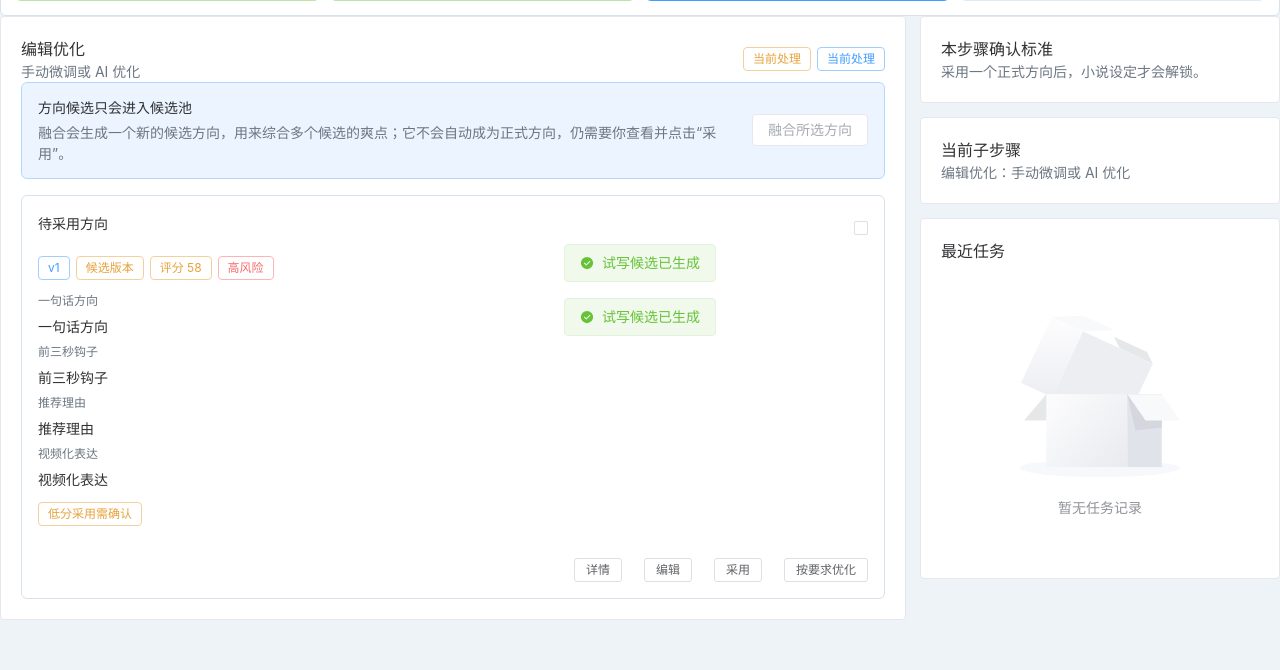
Test case: NovelDetailWorkbench DOM behavior › shows one current direction, historicalizes the previous version, removes non-candidate controls, and enters setting after adopt
(page scrolled)
Click the button "采用".
click(738, 570)  # box [714, 558, 762, 582]
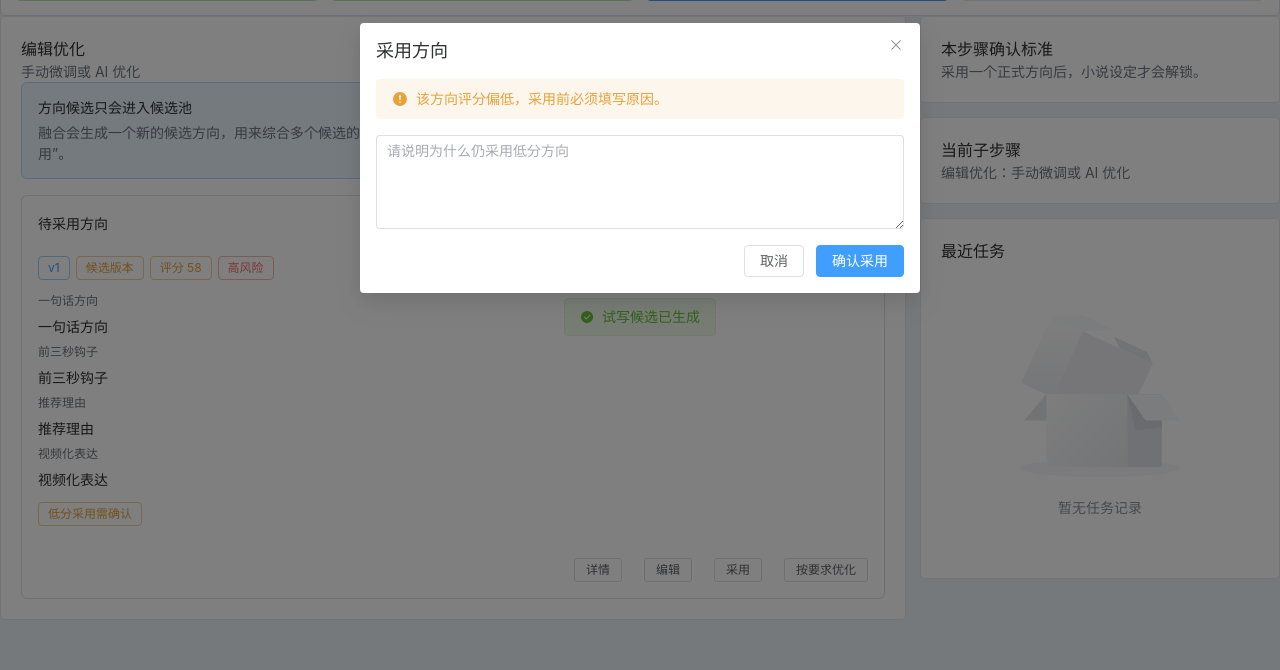
Type "采用该方向作为后续设定输入。" into the text box with placeholder "请说明为什么仍采用低分方向".
click(640, 182); type("采用该方向作为后续设定输入。")  # box [376, 135, 904, 229]
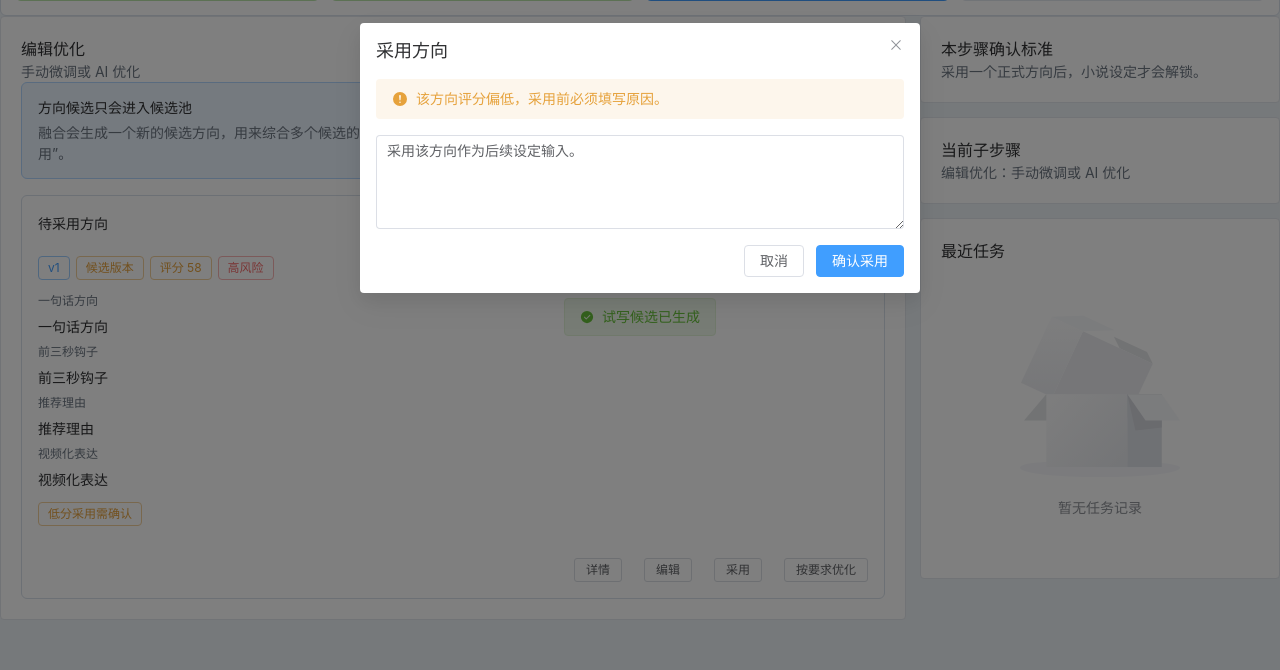
Click the button "确认采用".
click(860, 261)  # box [816, 245, 904, 277]
(page scrolled)
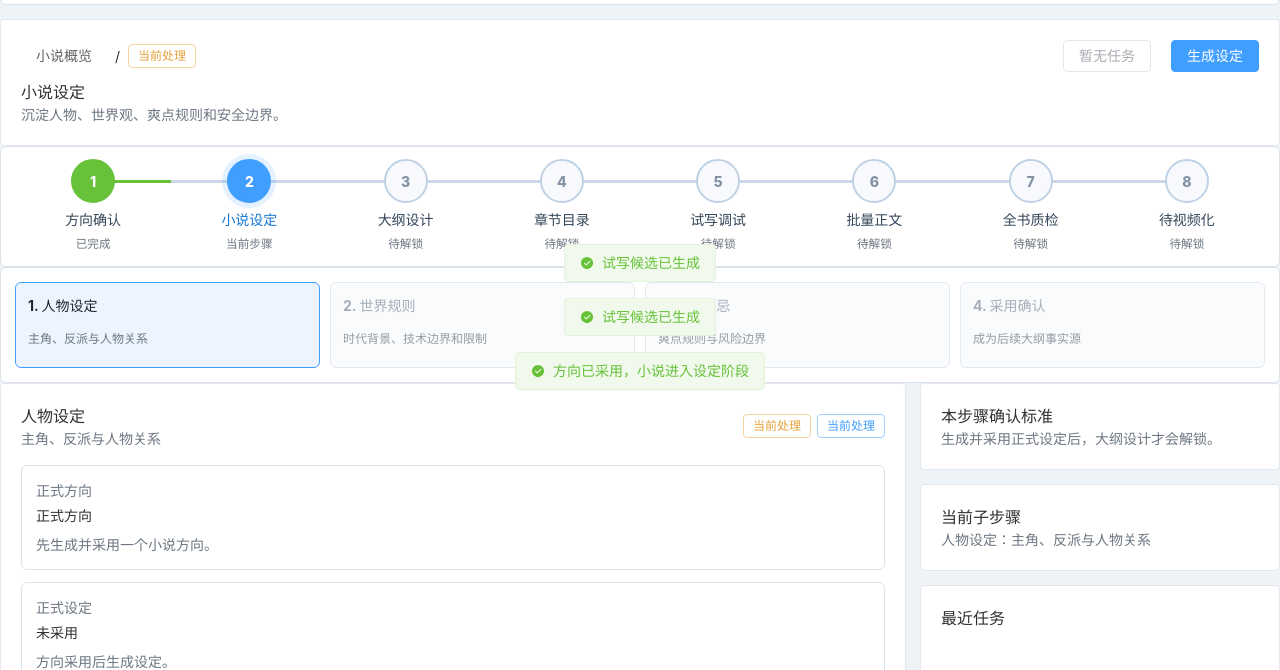
Click the button with class "major-step" showing "1 方向确认 已完成".
click(93, 206)  # box [15, 159, 171, 254]
(page scrolled)
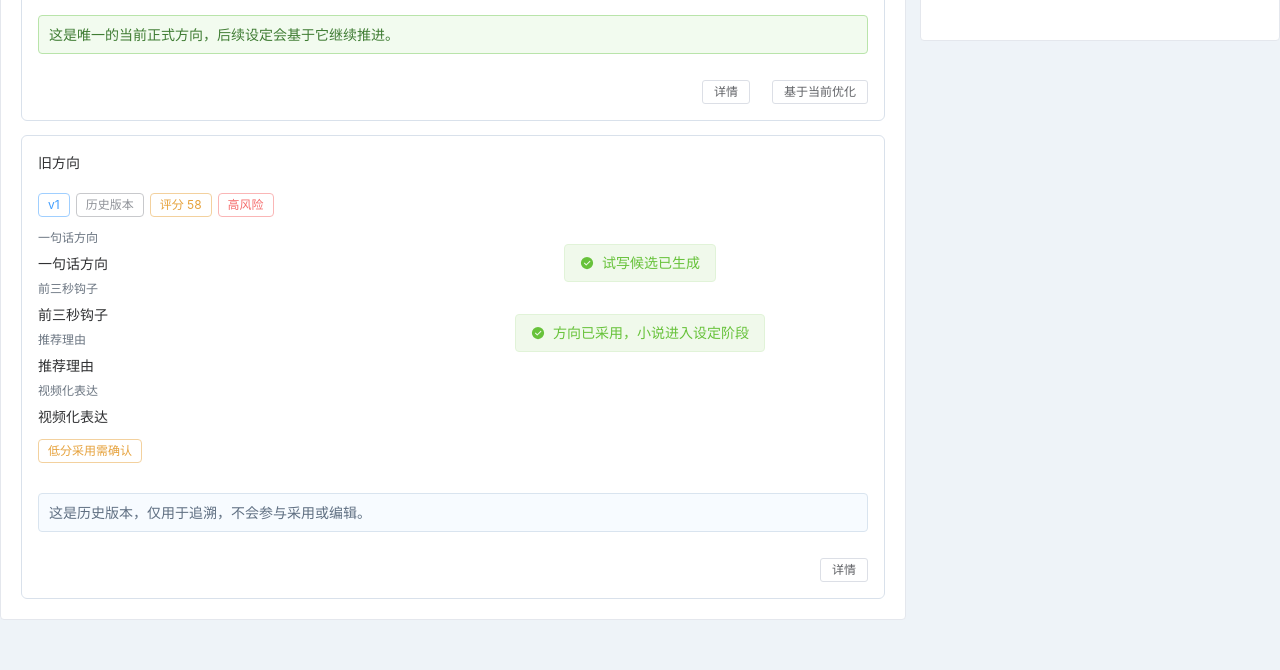
Expected: the element with id "direction-candidate-direction-next" shows "唯一的当前正式方向", [49, 26, 399, 43]
Expected: the element with id "direction-candidate-direction-previous" shows "历史版本", [86, 197, 134, 212]
Expected: the buttons read "详情", in this order, [820, 558, 868, 582]
